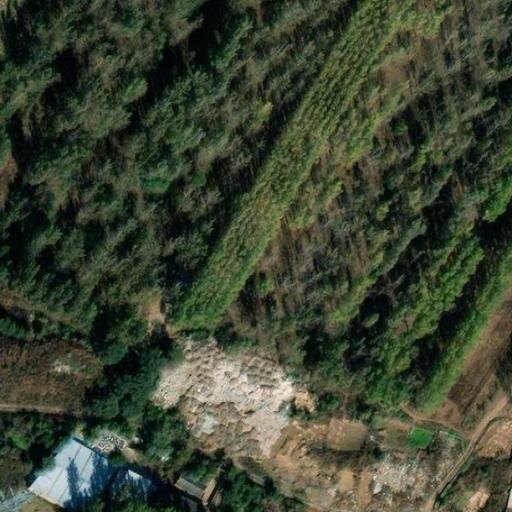building: (30, 439, 119, 512), (172, 466, 222, 504), (116, 470, 156, 505), (158, 486, 199, 512)
